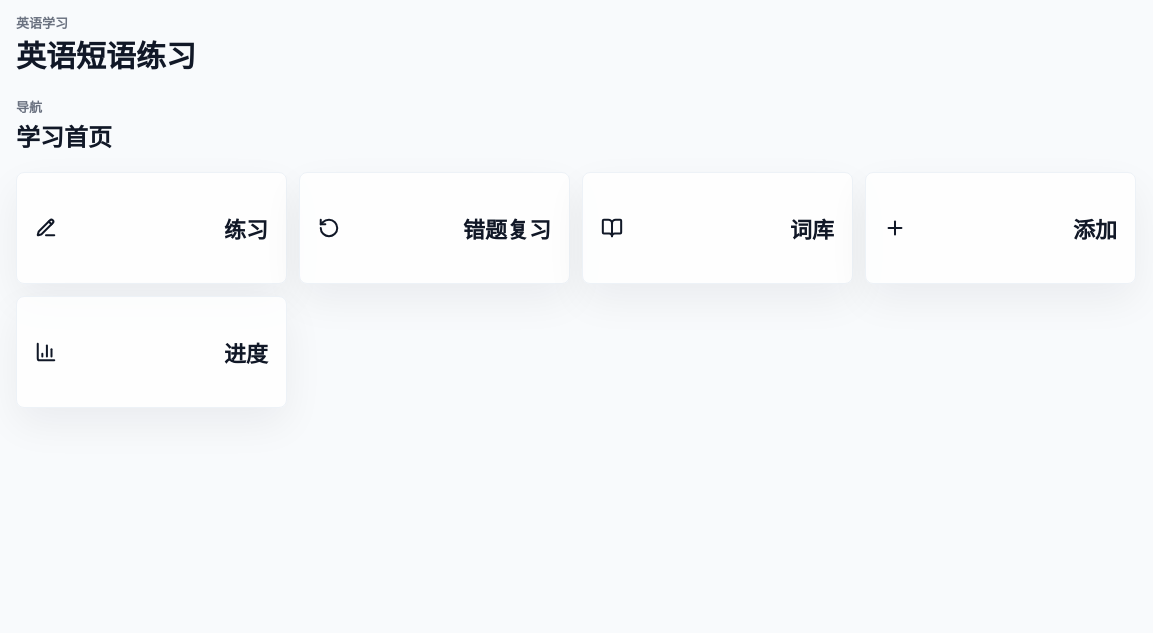
Test case: App › shows an empty wrong-book review state before mistakes
Click the button "错题复习".
click(507, 230)  # box [299,172,570,284]
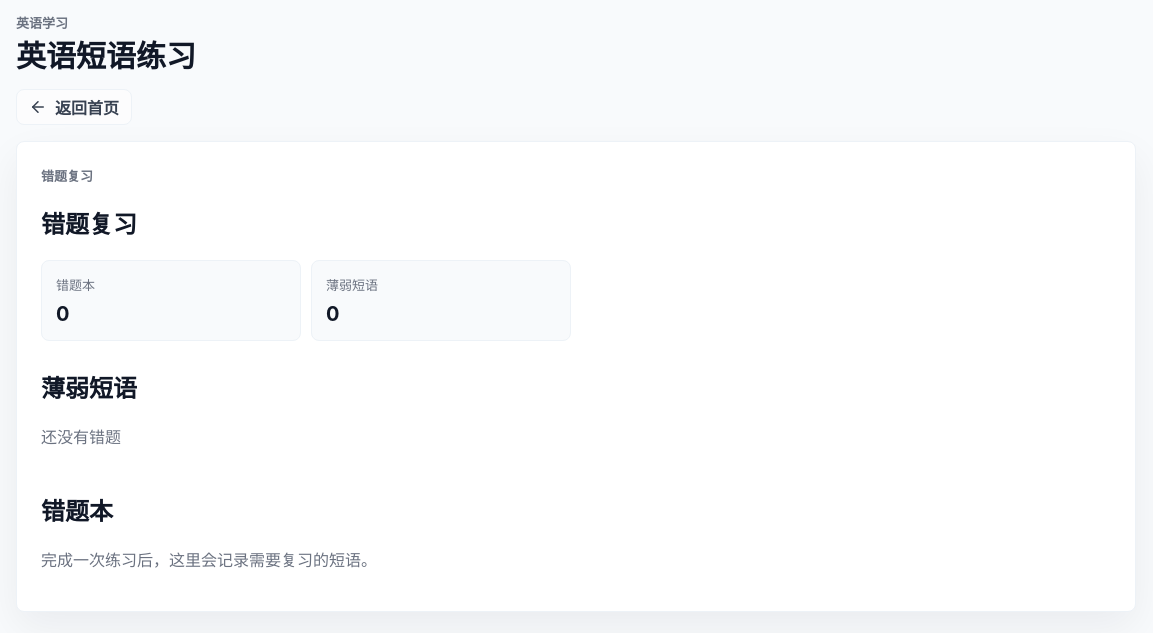
Expected: the heading "错题复习" is shown, [41,210,137,239]
Expected: the text "还没有错题" is shown, [41,427,121,447]
